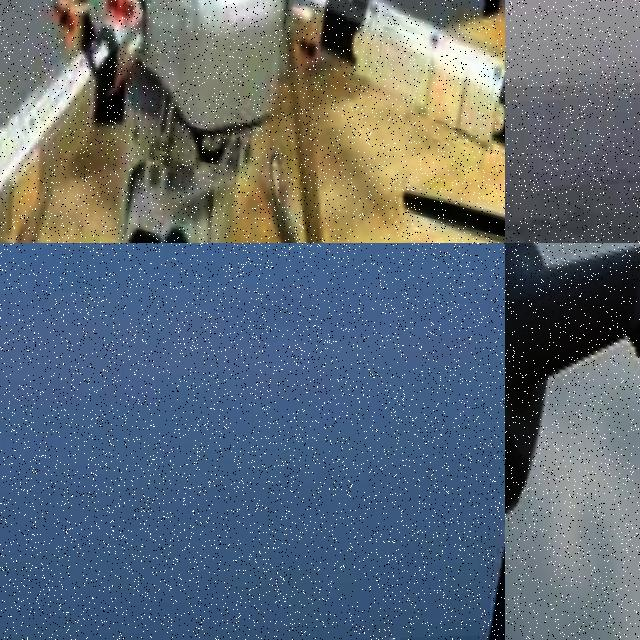drone: (0, 0, 505, 243), (505, 243, 640, 640)
